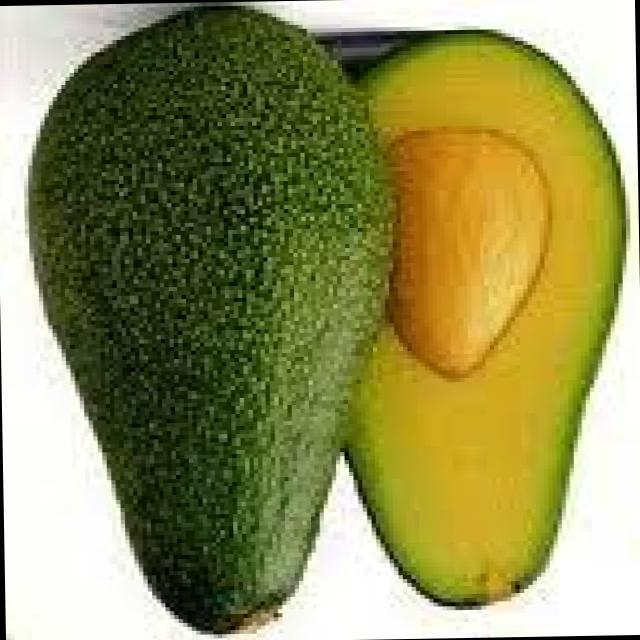Avocado: (12, 2, 425, 640), (336, 14, 640, 619)
